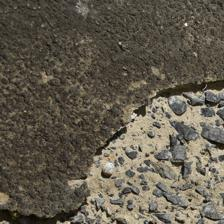Crack: (3, 40, 221, 184)
